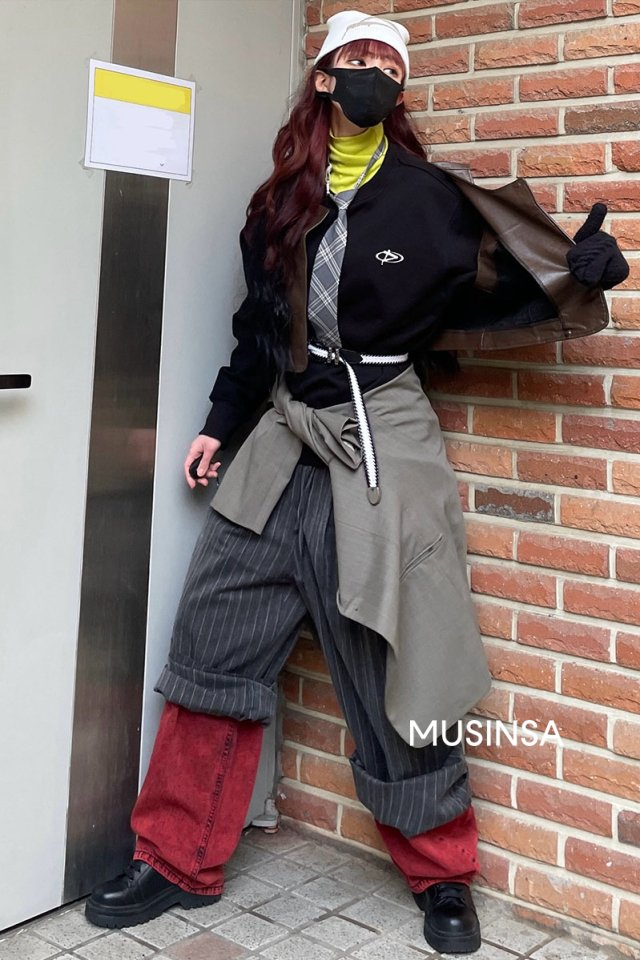Beanie: (307, 6, 418, 73)
Outer: (175, 142, 630, 447)
Pants: (155, 384, 501, 895)
Shoes: (81, 839, 495, 959)
